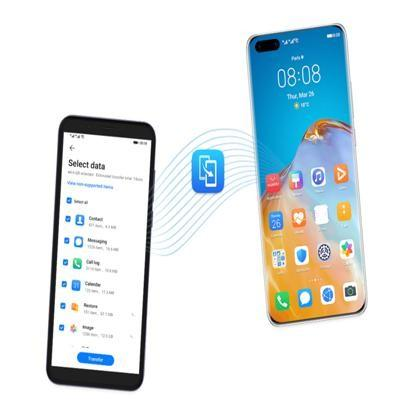not trash: (247, 21, 371, 323), (44, 112, 142, 391)
